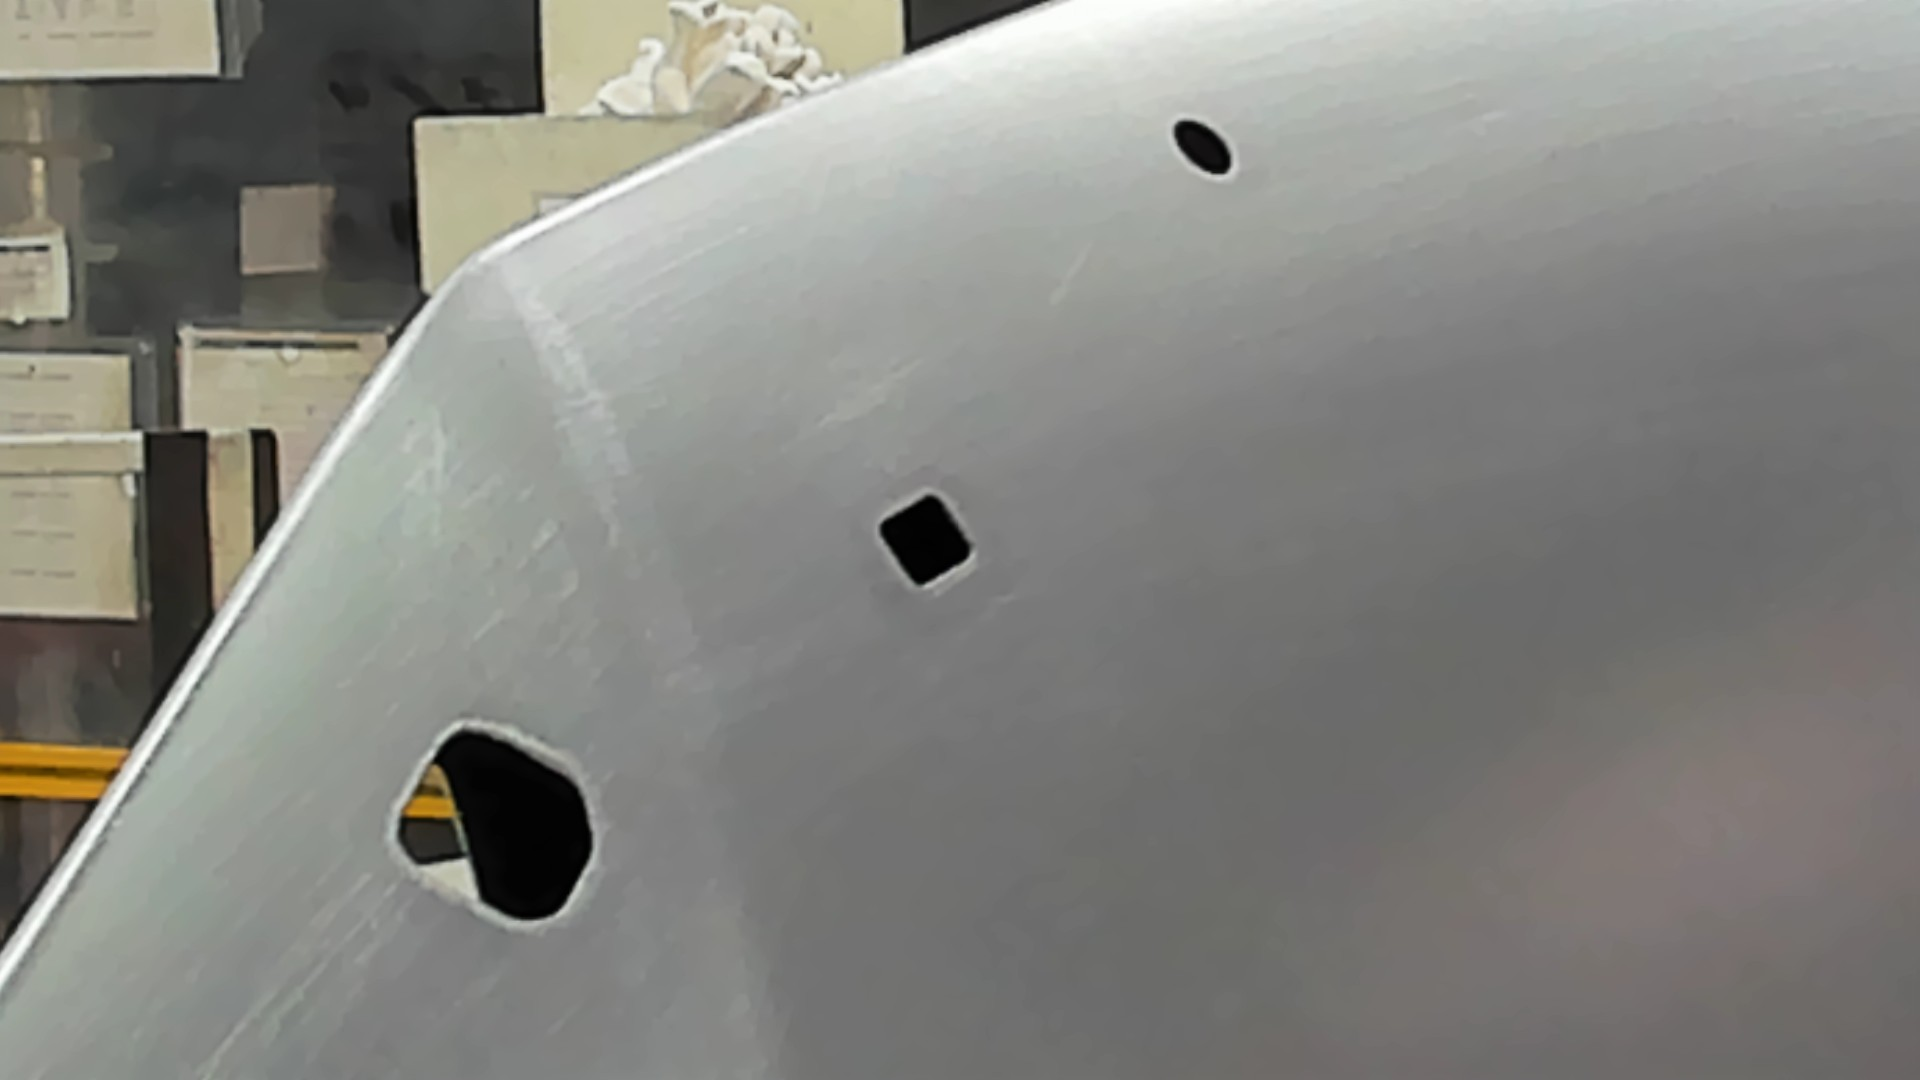capo: (988, 183, 1920, 1080)
chico: (1168, 111, 1244, 186)
grande: (382, 717, 604, 942)
mediano: (866, 483, 986, 597)
